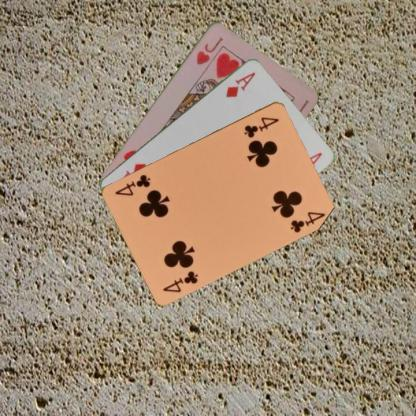4c: (160, 268, 200, 294), (242, 114, 280, 139)
Ad: (223, 69, 257, 99)
Jh: (194, 34, 224, 66)
